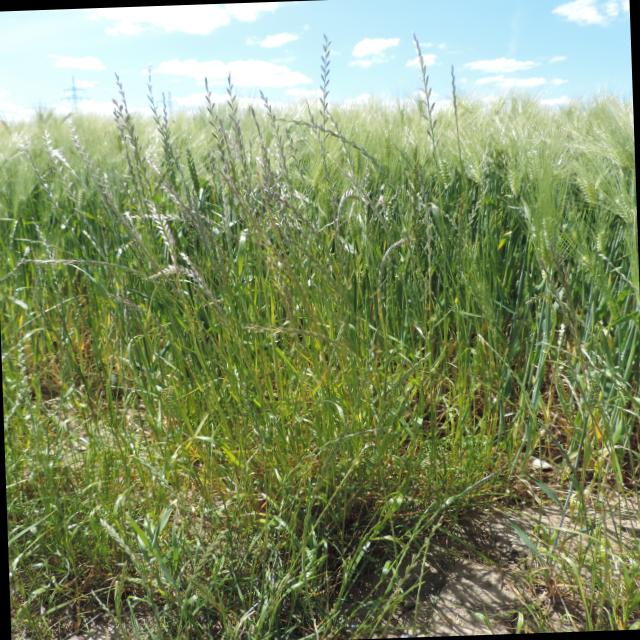Lolium: (0, 130, 640, 640), (263, 104, 464, 316), (118, 76, 211, 410), (311, 35, 351, 355)
